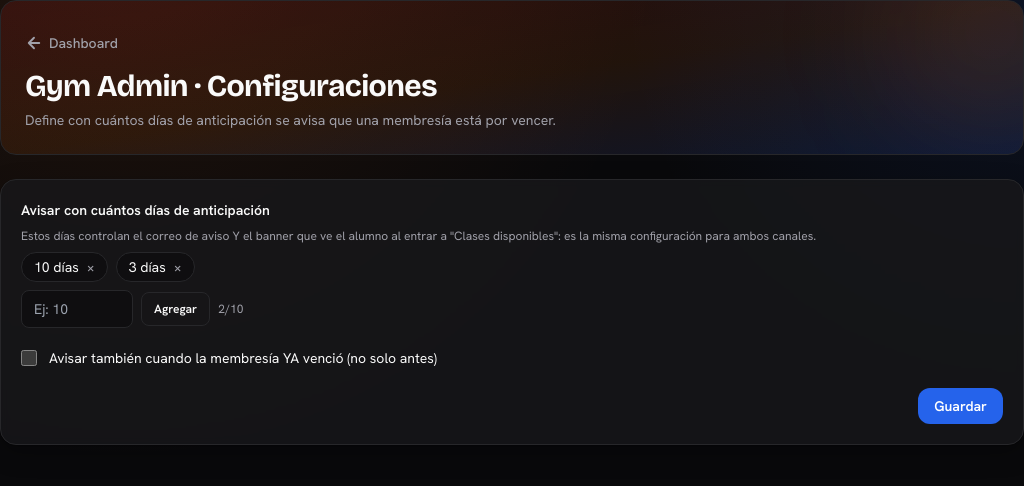
GymAdminExpiryNotificationConfigPage — agregar días (validación en la UI) › rechaza un valor fuera de rango (0 o mayor a 365) sin agregarlo
Expected: the text "10 días" is shown, [21,252,108,282]
Type "400" into the number field named "Días de anticipación a agregar" at x=77, y=309, box [21,290,133,328]
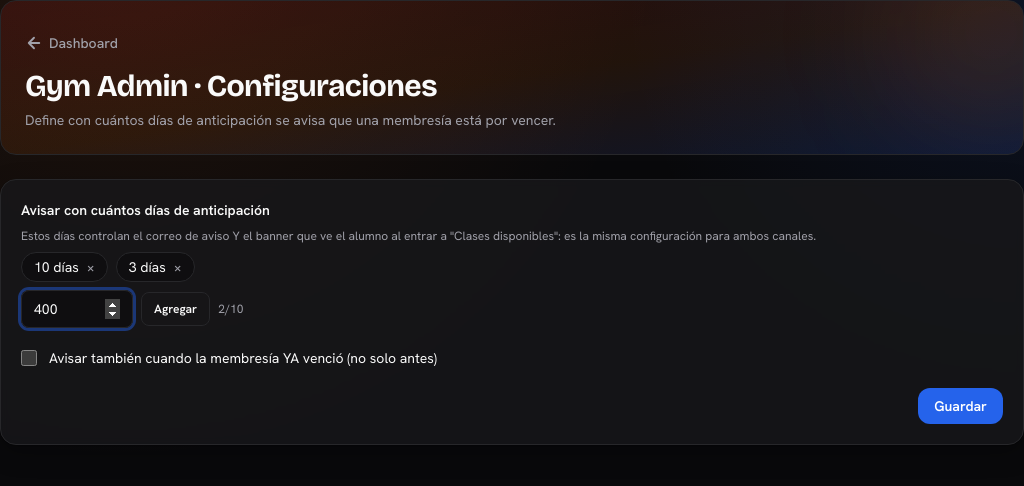
Click the button "Agregar" at x=176, y=309, box [141,292,210,326]
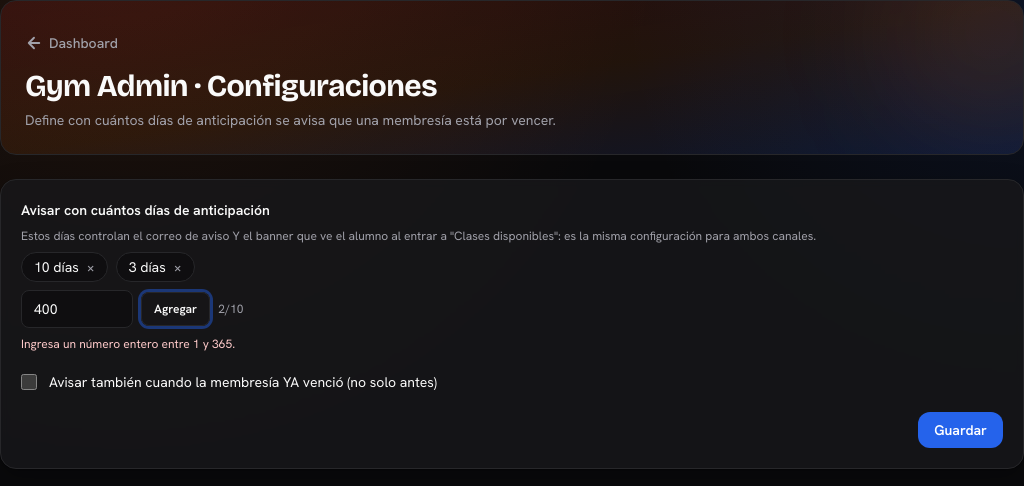
Now the text "Ingresa un número entero entre 1 y 365." is shown, box [21,336,235,352]
